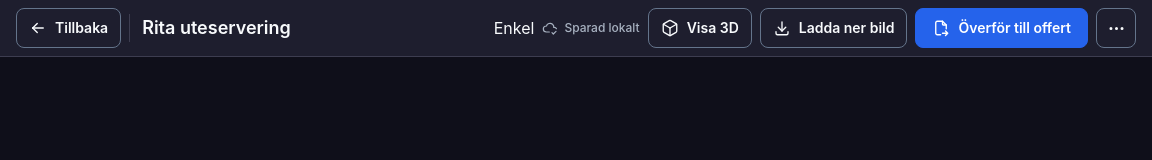
SketchWorkspaceHeader › exposes, opens and runs actions from the overflow menu
Click the button named "Fler skissåtgärder": [1116, 28] box [1096,8,1136,48]
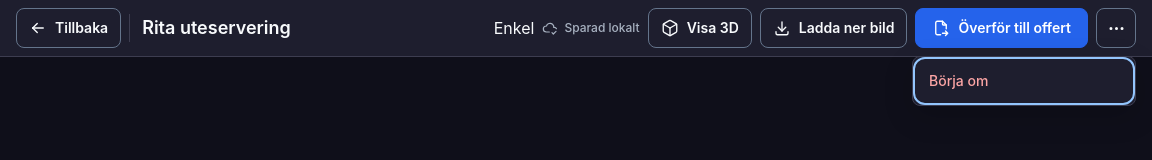
Click the menu item "Börja om": [1024, 81] box [917,61,1131,101]
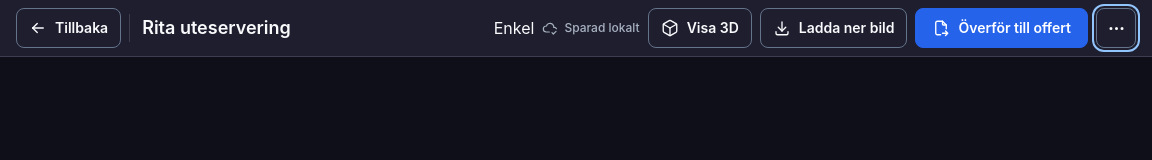
Result: the menu is gone
